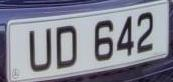2: (136, 8, 156, 58)
4: (116, 10, 136, 64)
6: (93, 14, 117, 68)
D: (55, 22, 82, 72)
U: (26, 25, 55, 74)
